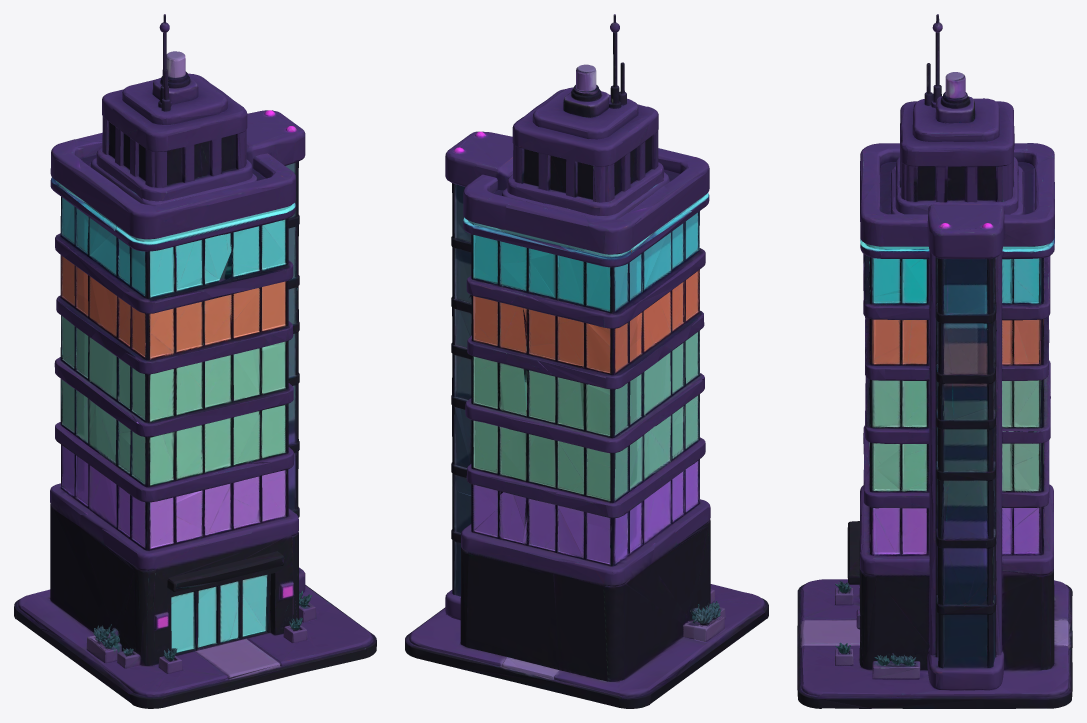
File: bld-agent-tower.glb
3 renders of one model, left to right at view 1: azimuth 30°, elevation 25°; view 2: azimuth 150°, elevation 25°; view 3: azimuth 270°, elevation 25°, orthographic.
Visible parts, largest first — view 1: output_unwrapped; view 2: output_unwrapped; view 3: output_unwrapped.
Part boxes in pixels (x1,y1,x2,y2): output_unwrapped: (14, 14, 376, 708); output_unwrapped: (405, 14, 768, 708); output_unwrapped: (797, 14, 1072, 708).
Size of the model in its own units: 0.7763 by 1.9 by 0.7635.
Materials: 1 (1 with a texture image).
